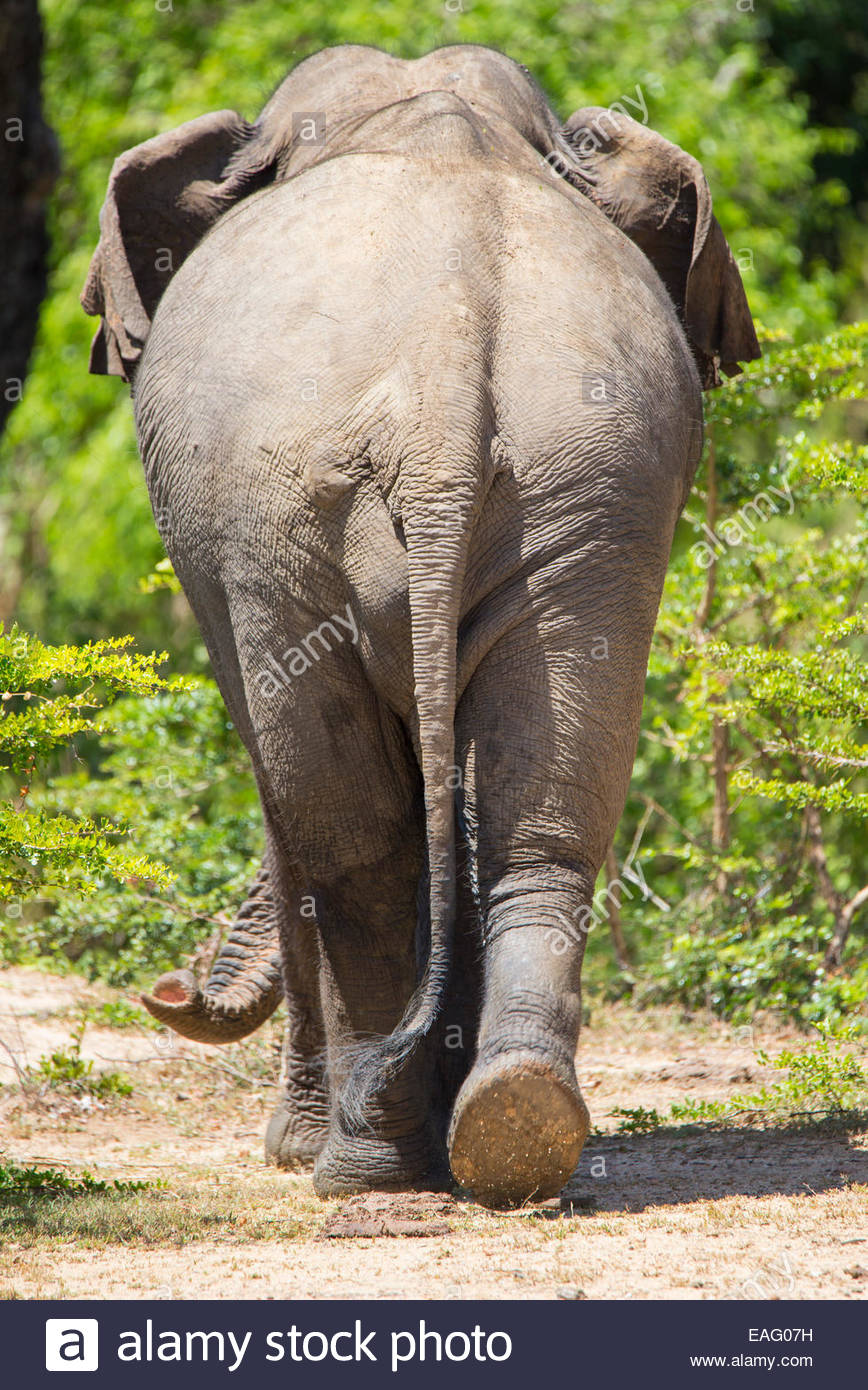elephant: (73, 36, 753, 1201)
